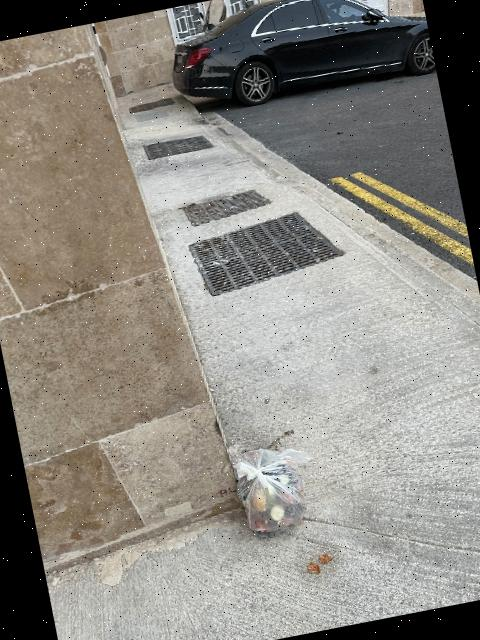Organic -White-: (236, 449, 305, 533)
